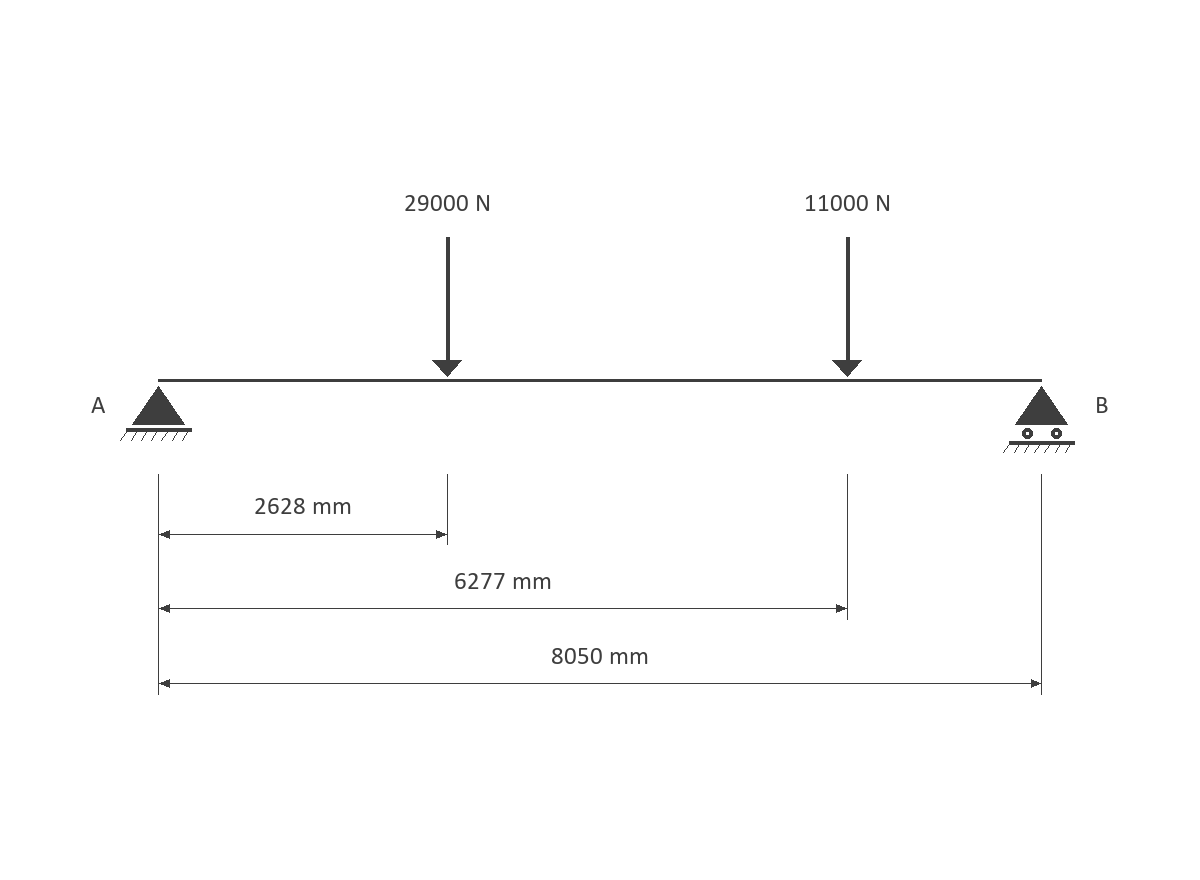pin_support: (120, 386, 192, 441)
point_load: (432, 237, 462, 377), (832, 237, 862, 377)
roller_support: (1003, 386, 1075, 453)
